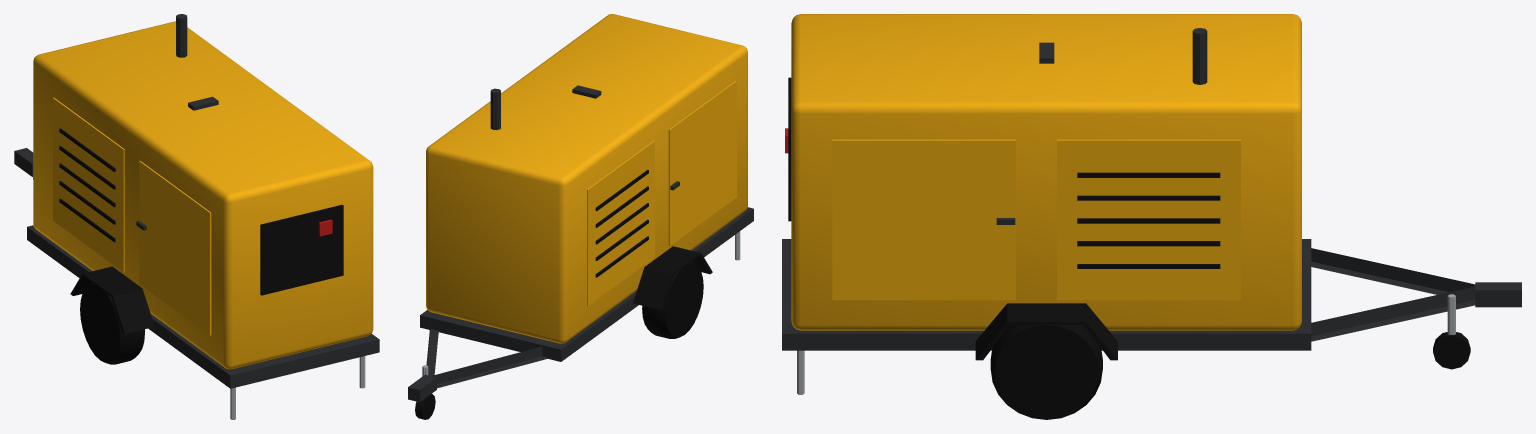
The model's file is plant.small.generator_100kva.glb.
3 views of the same model, side by side, from view 1: azimuth 30°, elevation 25°; view 2: azimuth 150°, elevation 25°; view 3: azimuth 270°, elevation 25° (orthographic). The views are drawn at different scales.
Parts seen in each view (by area): view 1: main__plant_yellow, main__plastic_black, main__steel_dark, wheels__rubber, wheels__plastic_black, main__steel_galvanised; view 2: main__plant_yellow, main__steel_dark, wheels__rubber, wheels__plastic_black, main__plastic_black; view 3: main__plant_yellow, main__steel_dark, wheels__rubber, main__plastic_black, wheels__plastic_black, main__steel_galvanised.
Boxes of the visible parts, x1=… form: main__plant_yellow: x1=33, y1=21, x2=373, y2=369; main__plastic_black: x1=59, y1=128, x2=343, y2=295; main__steel_dark: x1=14, y1=14, x2=379, y2=388; wheels__rubber: x1=80, y1=282, x2=144, y2=364; wheels__plastic_black: x1=70, y1=266, x2=154, y2=333; main__steel_galvanised: x1=230, y1=356, x2=365, y2=419; main__plant_yellow: x1=426, y1=14, x2=747, y2=343; main__steel_dark: x1=408, y1=85, x2=753, y2=402; wheels__rubber: x1=642, y1=261, x2=703, y2=338; wheels__plastic_black: x1=633, y1=246, x2=712, y2=309; main__plastic_black: x1=415, y1=170, x2=648, y2=419; main__plant_yellow: x1=791, y1=14, x2=1301, y2=330; main__steel_dark: x1=782, y1=28, x2=1521, y2=350; wheels__rubber: x1=990, y1=324, x2=1102, y2=419; main__plastic_black: x1=788, y1=77, x2=1470, y2=369; wheels__plastic_black: x1=975, y1=303, x2=1117, y2=360; main__steel_galvanised: x1=797, y1=294, x2=1455, y2=394.
Bounding box in the file's own units: 1.7 × 2.07 × 3.95.
